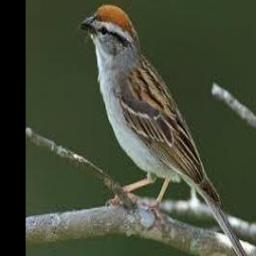Sparrow: (79, 2, 255, 256)
